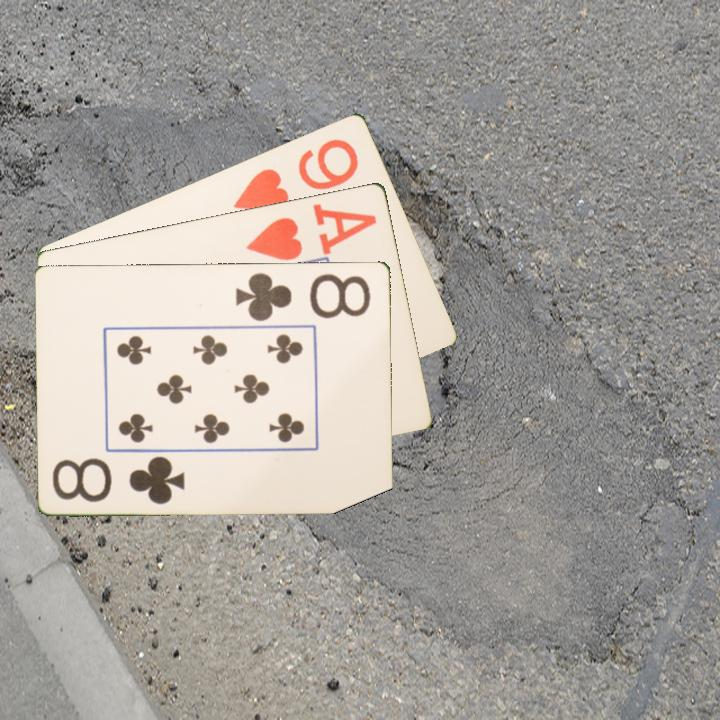8c: (232, 268, 374, 323), (49, 452, 188, 507)
9h: (230, 134, 362, 215)
Ah: (242, 199, 380, 263)
